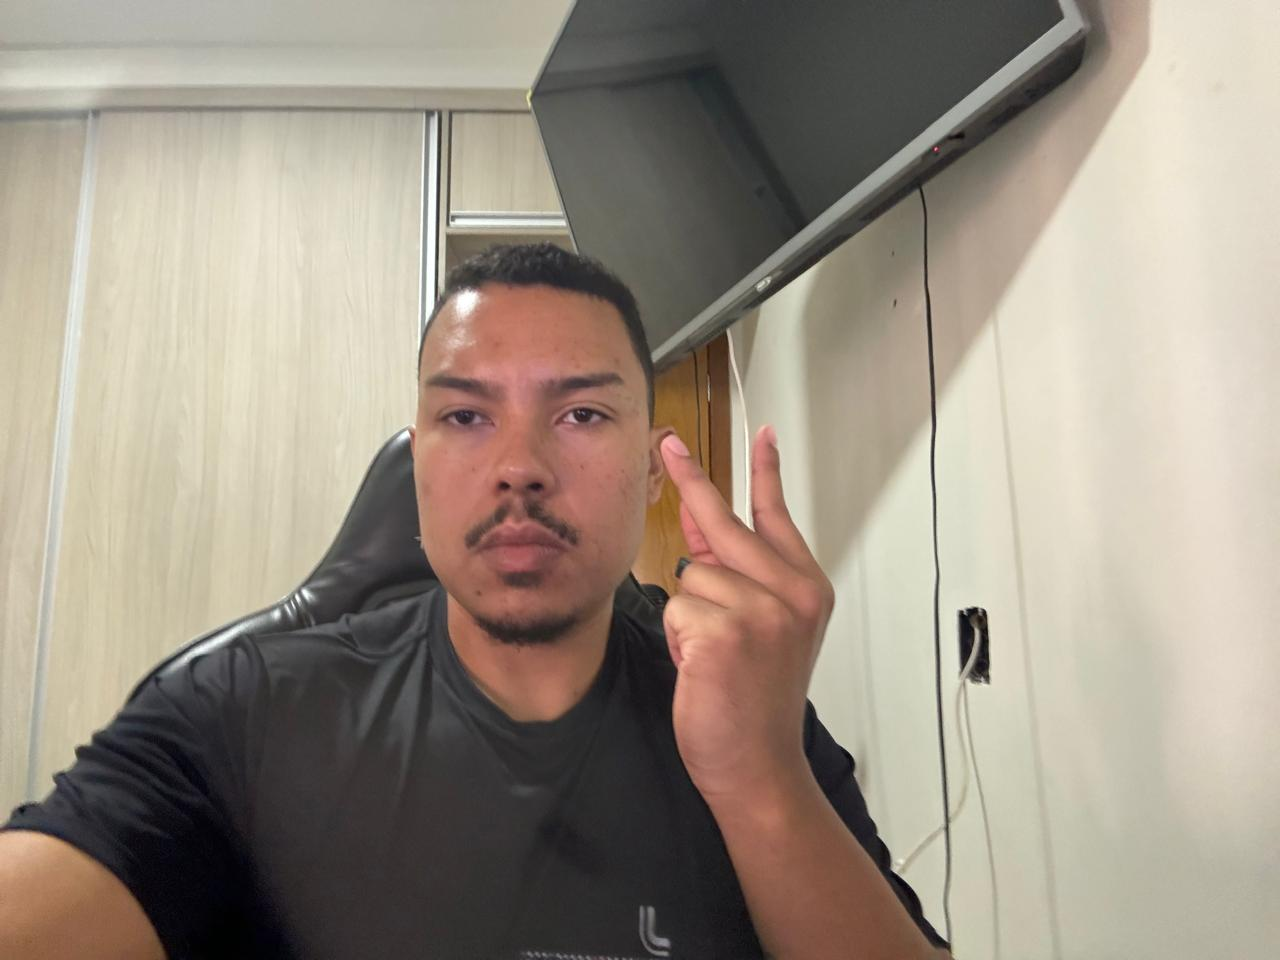h: (646, 421, 843, 816)
